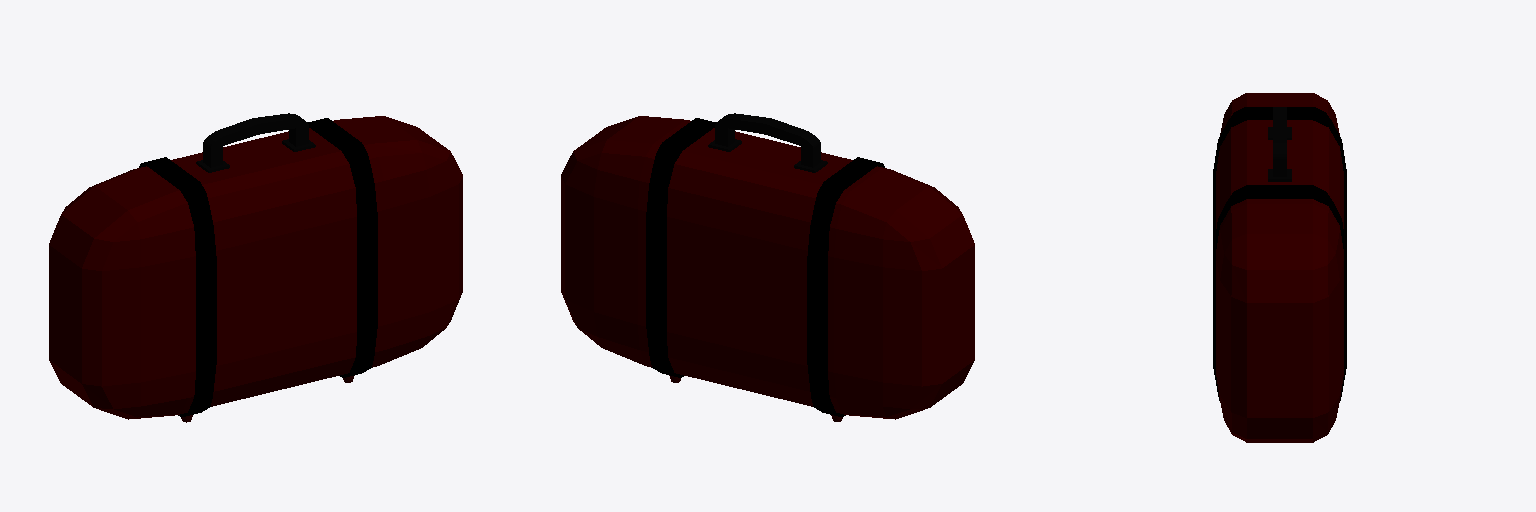
The model's file is Suitcase.obj.
The picture shows the model from 3 angles: view 1: azimuth 30°, elevation 25°; view 2: azimuth 150°, elevation 25°; view 3: azimuth 270°, elevation 25°; orthographic projection.
Visible parts, largest first — view 1: Cube_Red, Cube_Black, Cube_handel; view 2: Cube_Red, Cube_Black, Cube_handel; view 3: Cube_Red, Cube_Black, Cube_handel.
Boxes of the visible parts, x1,y1,x2,y2 form: Cube_Red: [49, 116, 462, 422]; Cube_Black: [139, 118, 377, 417]; Cube_handel: [196, 113, 315, 172]; Cube_Red: [561, 116, 974, 421]; Cube_Black: [646, 118, 884, 417]; Cube_handel: [708, 113, 827, 172]; Cube_Red: [1216, 93, 1343, 442]; Cube_Black: [1213, 107, 1346, 400]; Cube_handel: [1268, 107, 1291, 181].
Bounding box in the file's own units: 3.57 × 2.41 × 1.09.